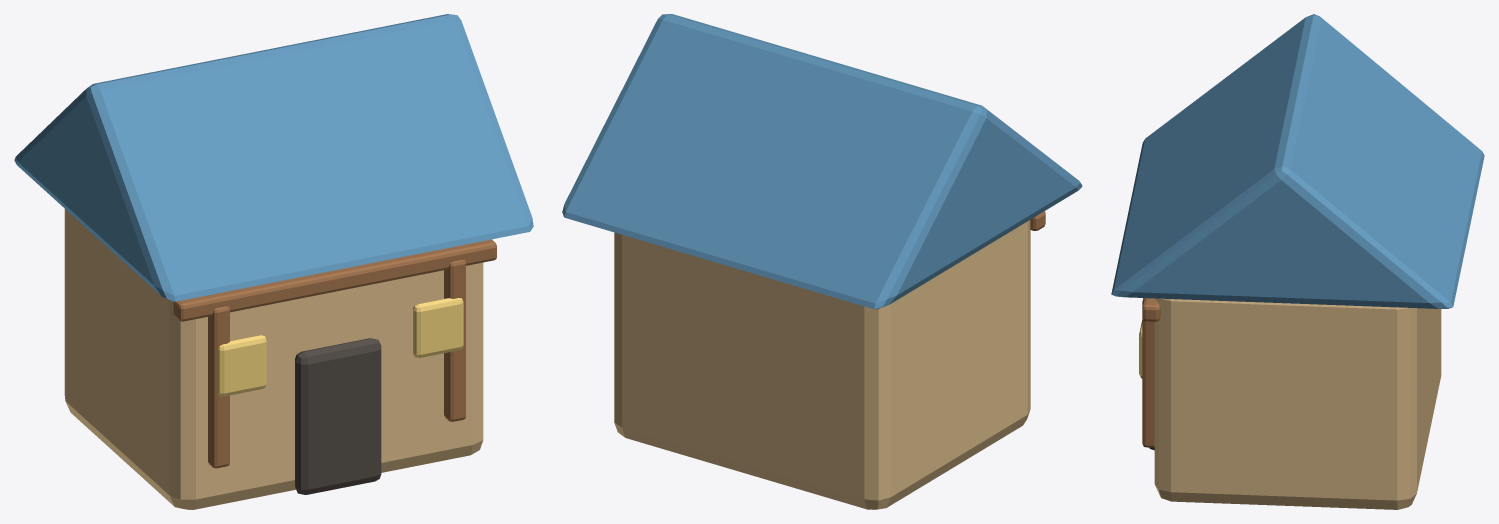
The model's file is building_cottage_e.glb.
3 renders of one model, left to right at view 1: azimuth 30°, elevation 25°; view 2: azimuth 150°, elevation 25°; view 3: azimuth 270°, elevation 25°, orthographic. The views are drawn at different scales.
Parts seen in each view (by area): view 1: Cottage_E_Roof.001, Cottage_E_House.001, Cottage_E_Door.001, Cottage_E_BeamTop.001, Cottage_E_BeamL.001, Cottage_E_WindowR.001, Cottage_E_WindowL.001, Cottage_E_BeamR.001; view 2: Cottage_E_Roof.001, Cottage_E_House.001; view 3: Cottage_E_Roof.001, Cottage_E_House.001, Cottage_E_BeamR.001.
Part boxes in pixels (box(x1,y1,x2,y2)): Cottage_E_Roof.001: box(14, 14, 533, 301); Cottage_E_House.001: box(64, 209, 483, 509); Cottage_E_Door.001: box(295, 338, 381, 494); Cottage_E_BeamTop.001: box(173, 239, 496, 321); Cottage_E_BeamL.001: box(208, 306, 229, 468); Cottage_E_WindowR.001: box(413, 298, 463, 357); Cottage_E_WindowL.001: box(218, 335, 266, 396); Cottage_E_BeamR.001: box(444, 259, 465, 421); Cottage_E_Roof.001: box(562, 14, 1082, 309); Cottage_E_House.001: box(614, 220, 1030, 509); Cottage_E_Roof.001: box(1111, 14, 1484, 308); Cottage_E_House.001: box(1154, 298, 1441, 509); Cottage_E_BeamR.001: box(1142, 298, 1154, 447).
Bounding box in the file's own units: 2.1 × 2.03 × 1.93.
